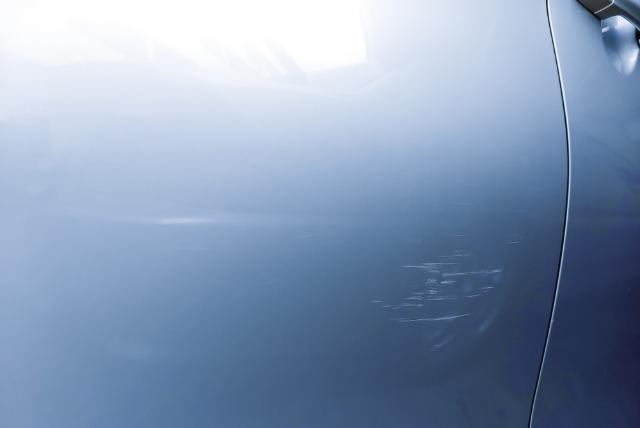scratch: (370, 180, 527, 350)
